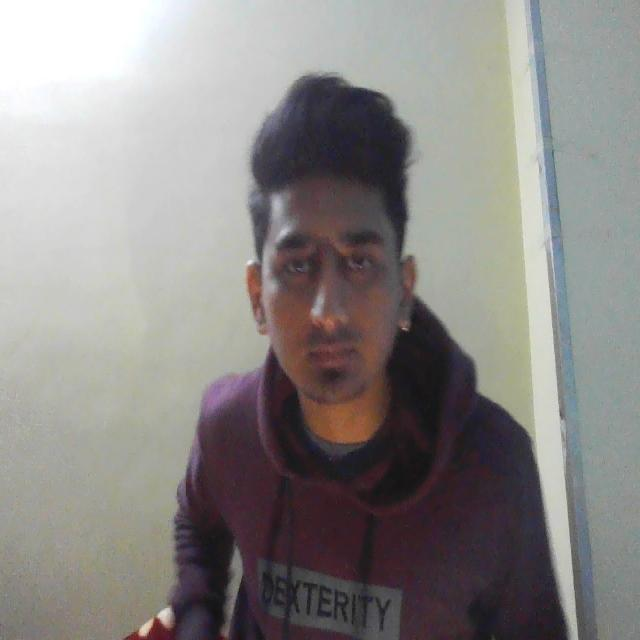real: (243, 87, 430, 440)
